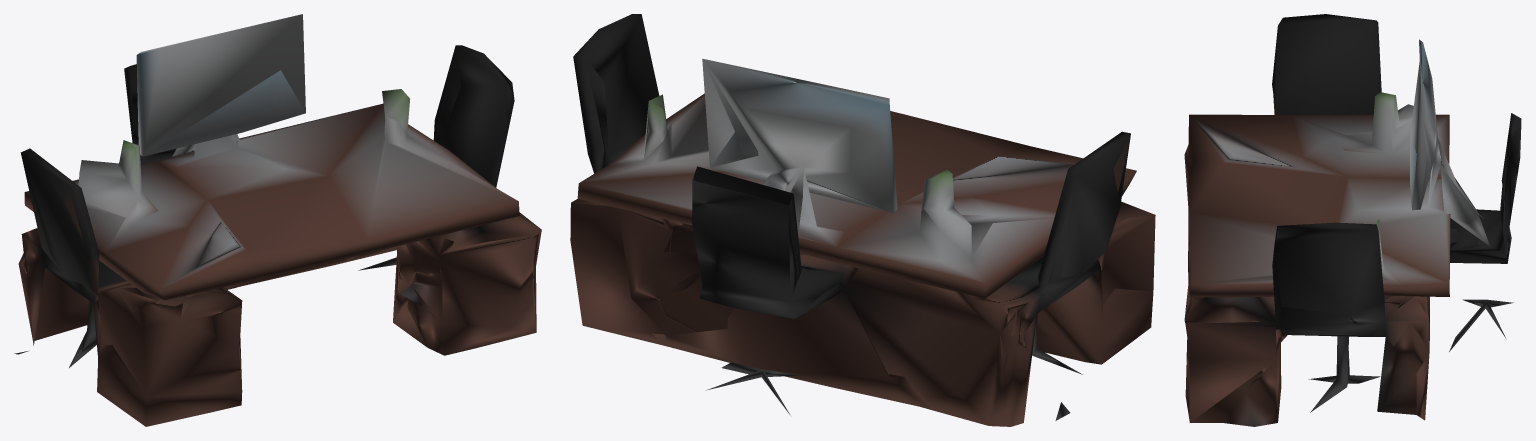
Rendered from gen3d-office-lod1.glb.
3 views of the same model, side by side, from view 1: azimuth 30°, elevation 25°; view 2: azimuth 150°, elevation 25°; view 3: azimuth 270°, elevation 25° (orthographic). The views are drawn at different scales.
Parts seen in each view (by area): view 1: part_0; view 2: part_0; view 3: part_0.
Part boxes in pixels (box(x1,y1,x2,y2)): part_0: box(14, 14, 541, 426); part_0: box(570, 14, 1155, 426); part_0: box(1184, 14, 1521, 426).
Size of the model in its own units: 1.76 by 0.9909 by 1.19.
